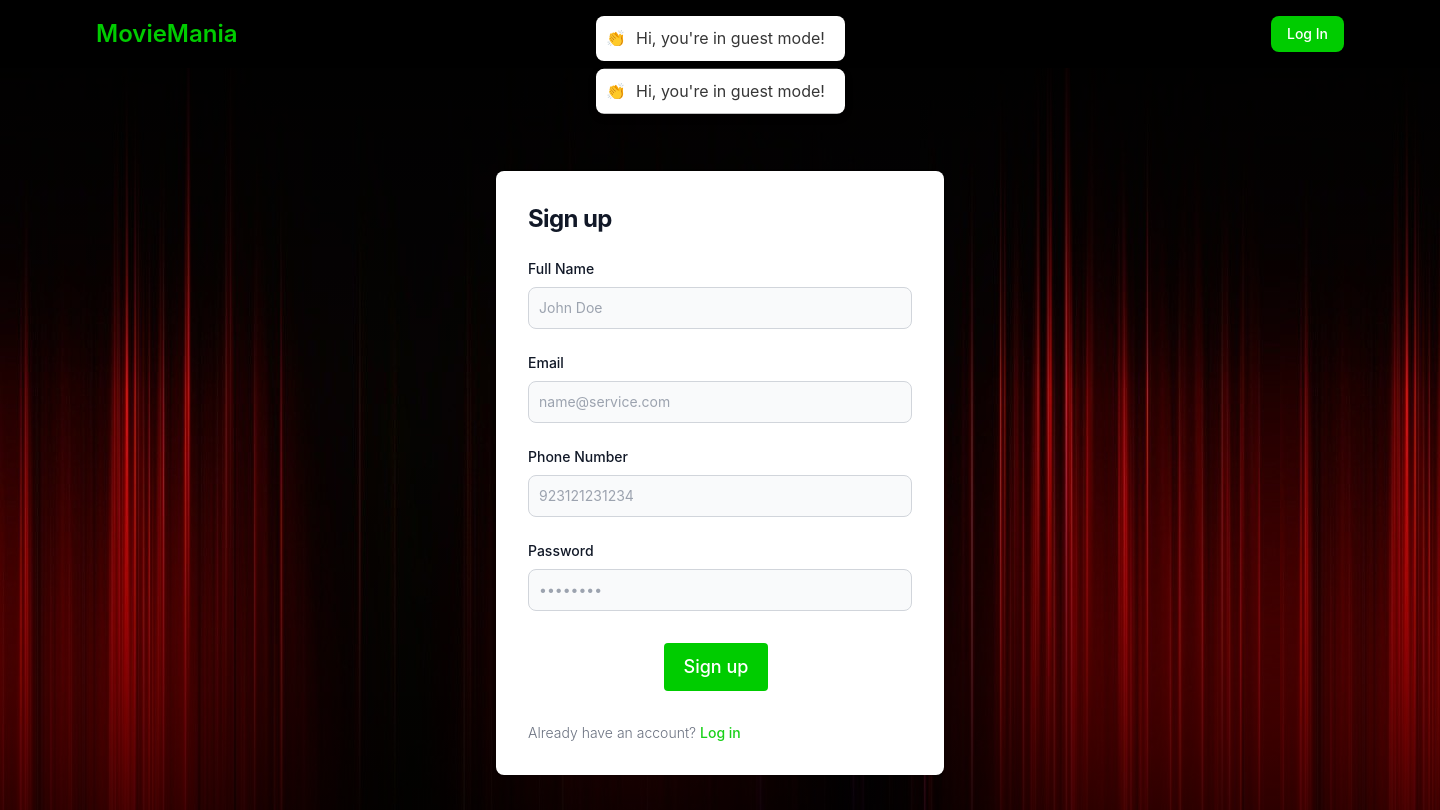
Test: SignUp Component Unit and Functional Tests › form validation for invalid email
Click the button "Sign up" at [716, 667], box [664, 643, 768, 691]
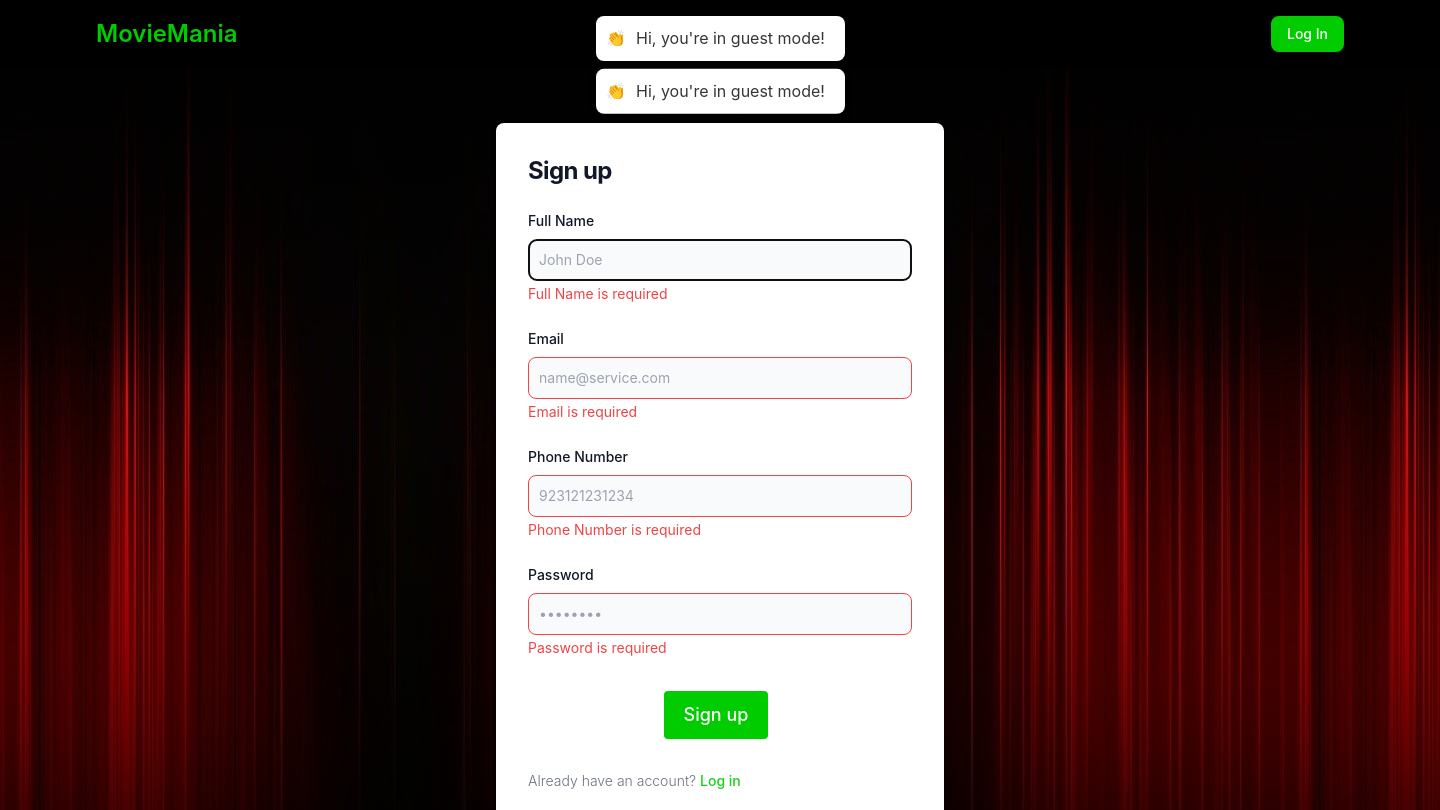
Check: the text "Email is required" is shown, box [528, 403, 637, 420]
